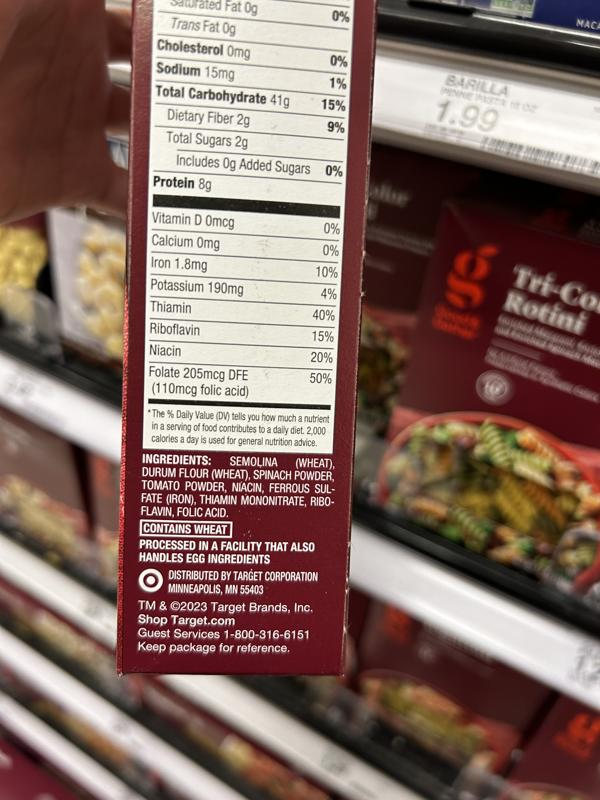ingredients: (138, 452, 337, 518)
